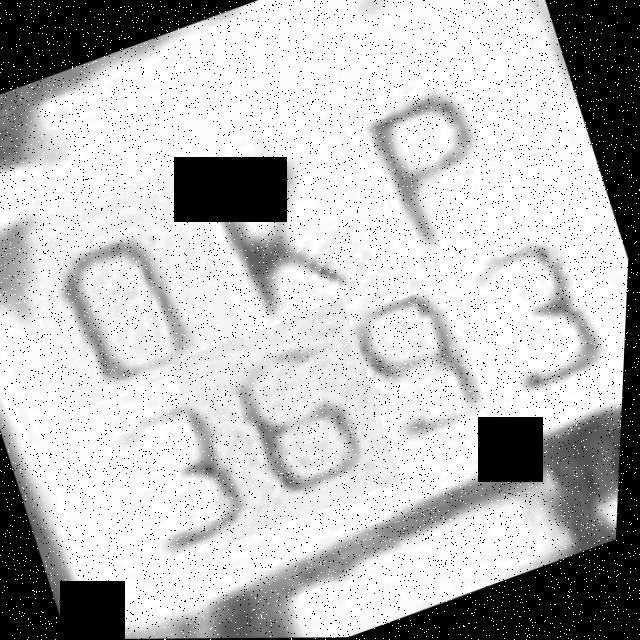3: (403, 200, 633, 464)
6: (168, 300, 411, 544)
9: (290, 249, 530, 497)
O: (8, 164, 257, 412)
P: (331, 51, 568, 302)
